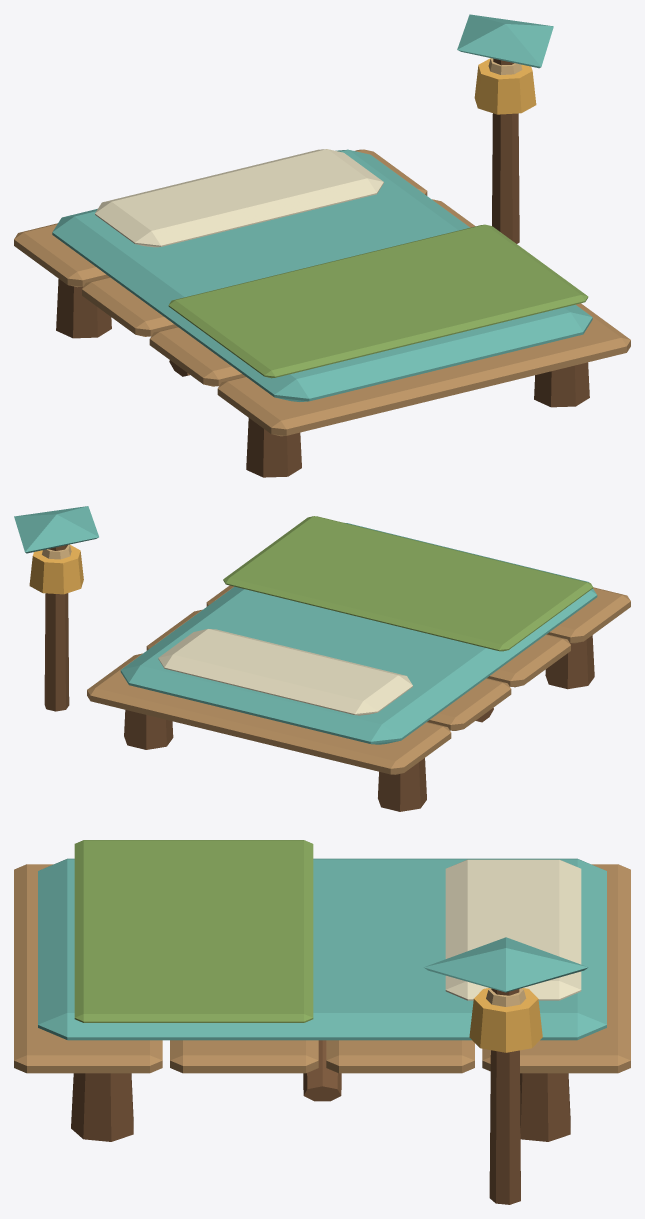
File: CC_CommanderBed.fbx
3 renders of one model, top to bottom at view 1: azimuth 30°, elevation 25°; view 2: azimuth 150°, elevation 25°; view 3: azimuth 270°, elevation 25°, orthographic. The views are drawn at different scales.
Parts seen in each view (by area): view 1: Leaf mattress, Folded blanket, Head cushion, Plank, Medical marker, Equipment pole, Plank.003, Plank.002, Plank.001, Medicine jar, Leg, Leg.001 (+1 smaller); view 2: Folded blanket, Leaf mattress, Head cushion, Plank.003, Equipment pole, Medical marker, Plank.002, Plank.001, Plank, Medicine jar, Leg.001, Leg (+1 smaller); view 3: Folded blanket, Leaf mattress, Head cushion, Plank, Plank.003, Plank.001, Plank.002, Medical marker, Equipment pole, Leg.002, Medicine jar, Leg.003 (+1 smaller).
Part boxes in pixels (x1,y1,x2,y2): Leaf mattress: [52, 149, 592, 401]; Folded blanket: [168, 224, 588, 378]; Head cushion: [95, 149, 383, 247]; Plank: [217, 303, 630, 436]; Medical marker: [457, 14, 553, 68]; Equipment pole: [492, 58, 519, 243]; Plank.003: [14, 149, 427, 287]; Plank.002: [82, 199, 475, 336]; Plank.001: [149, 326, 244, 386]; Medicine jar: [474, 58, 536, 114]; Leg: [246, 418, 301, 477]; Leg.001: [56, 279, 111, 338]; Folded blanket: [223, 516, 593, 651]; Leaf mattress: [120, 522, 597, 744]; Head cushion: [158, 629, 412, 715]; Plank.003: [87, 653, 451, 774]; Equipment pole: [44, 545, 69, 711]; Medical marker: [14, 506, 98, 553]; Plank.002: [146, 609, 511, 730]; Plank.001: [206, 585, 570, 687]; Plank: [547, 587, 630, 643]; Medicine jar: [29, 545, 83, 594]; Leg.001: [378, 758, 426, 811]; Leg: [545, 635, 594, 689]; Folded blanket: [74, 840, 313, 1022]; Leaf mattress: [38, 858, 606, 1040]; Head cushion: [445, 859, 581, 1000]; Plank: [14, 864, 162, 1073]; Plank.003: [482, 864, 630, 1073]; Plank.001: [170, 1040, 318, 1073]; Plank.002: [326, 1040, 474, 1073]; Medical marker: [424, 937, 588, 992]; Equipment pole: [489, 988, 520, 1204]; Leg.002: [71, 1073, 133, 1141]; Medicine jar: [469, 988, 542, 1052]; Leg.003: [520, 1073, 570, 1141].
Size of the model in its own units: 3.19 by 1.35 by 3.02.
